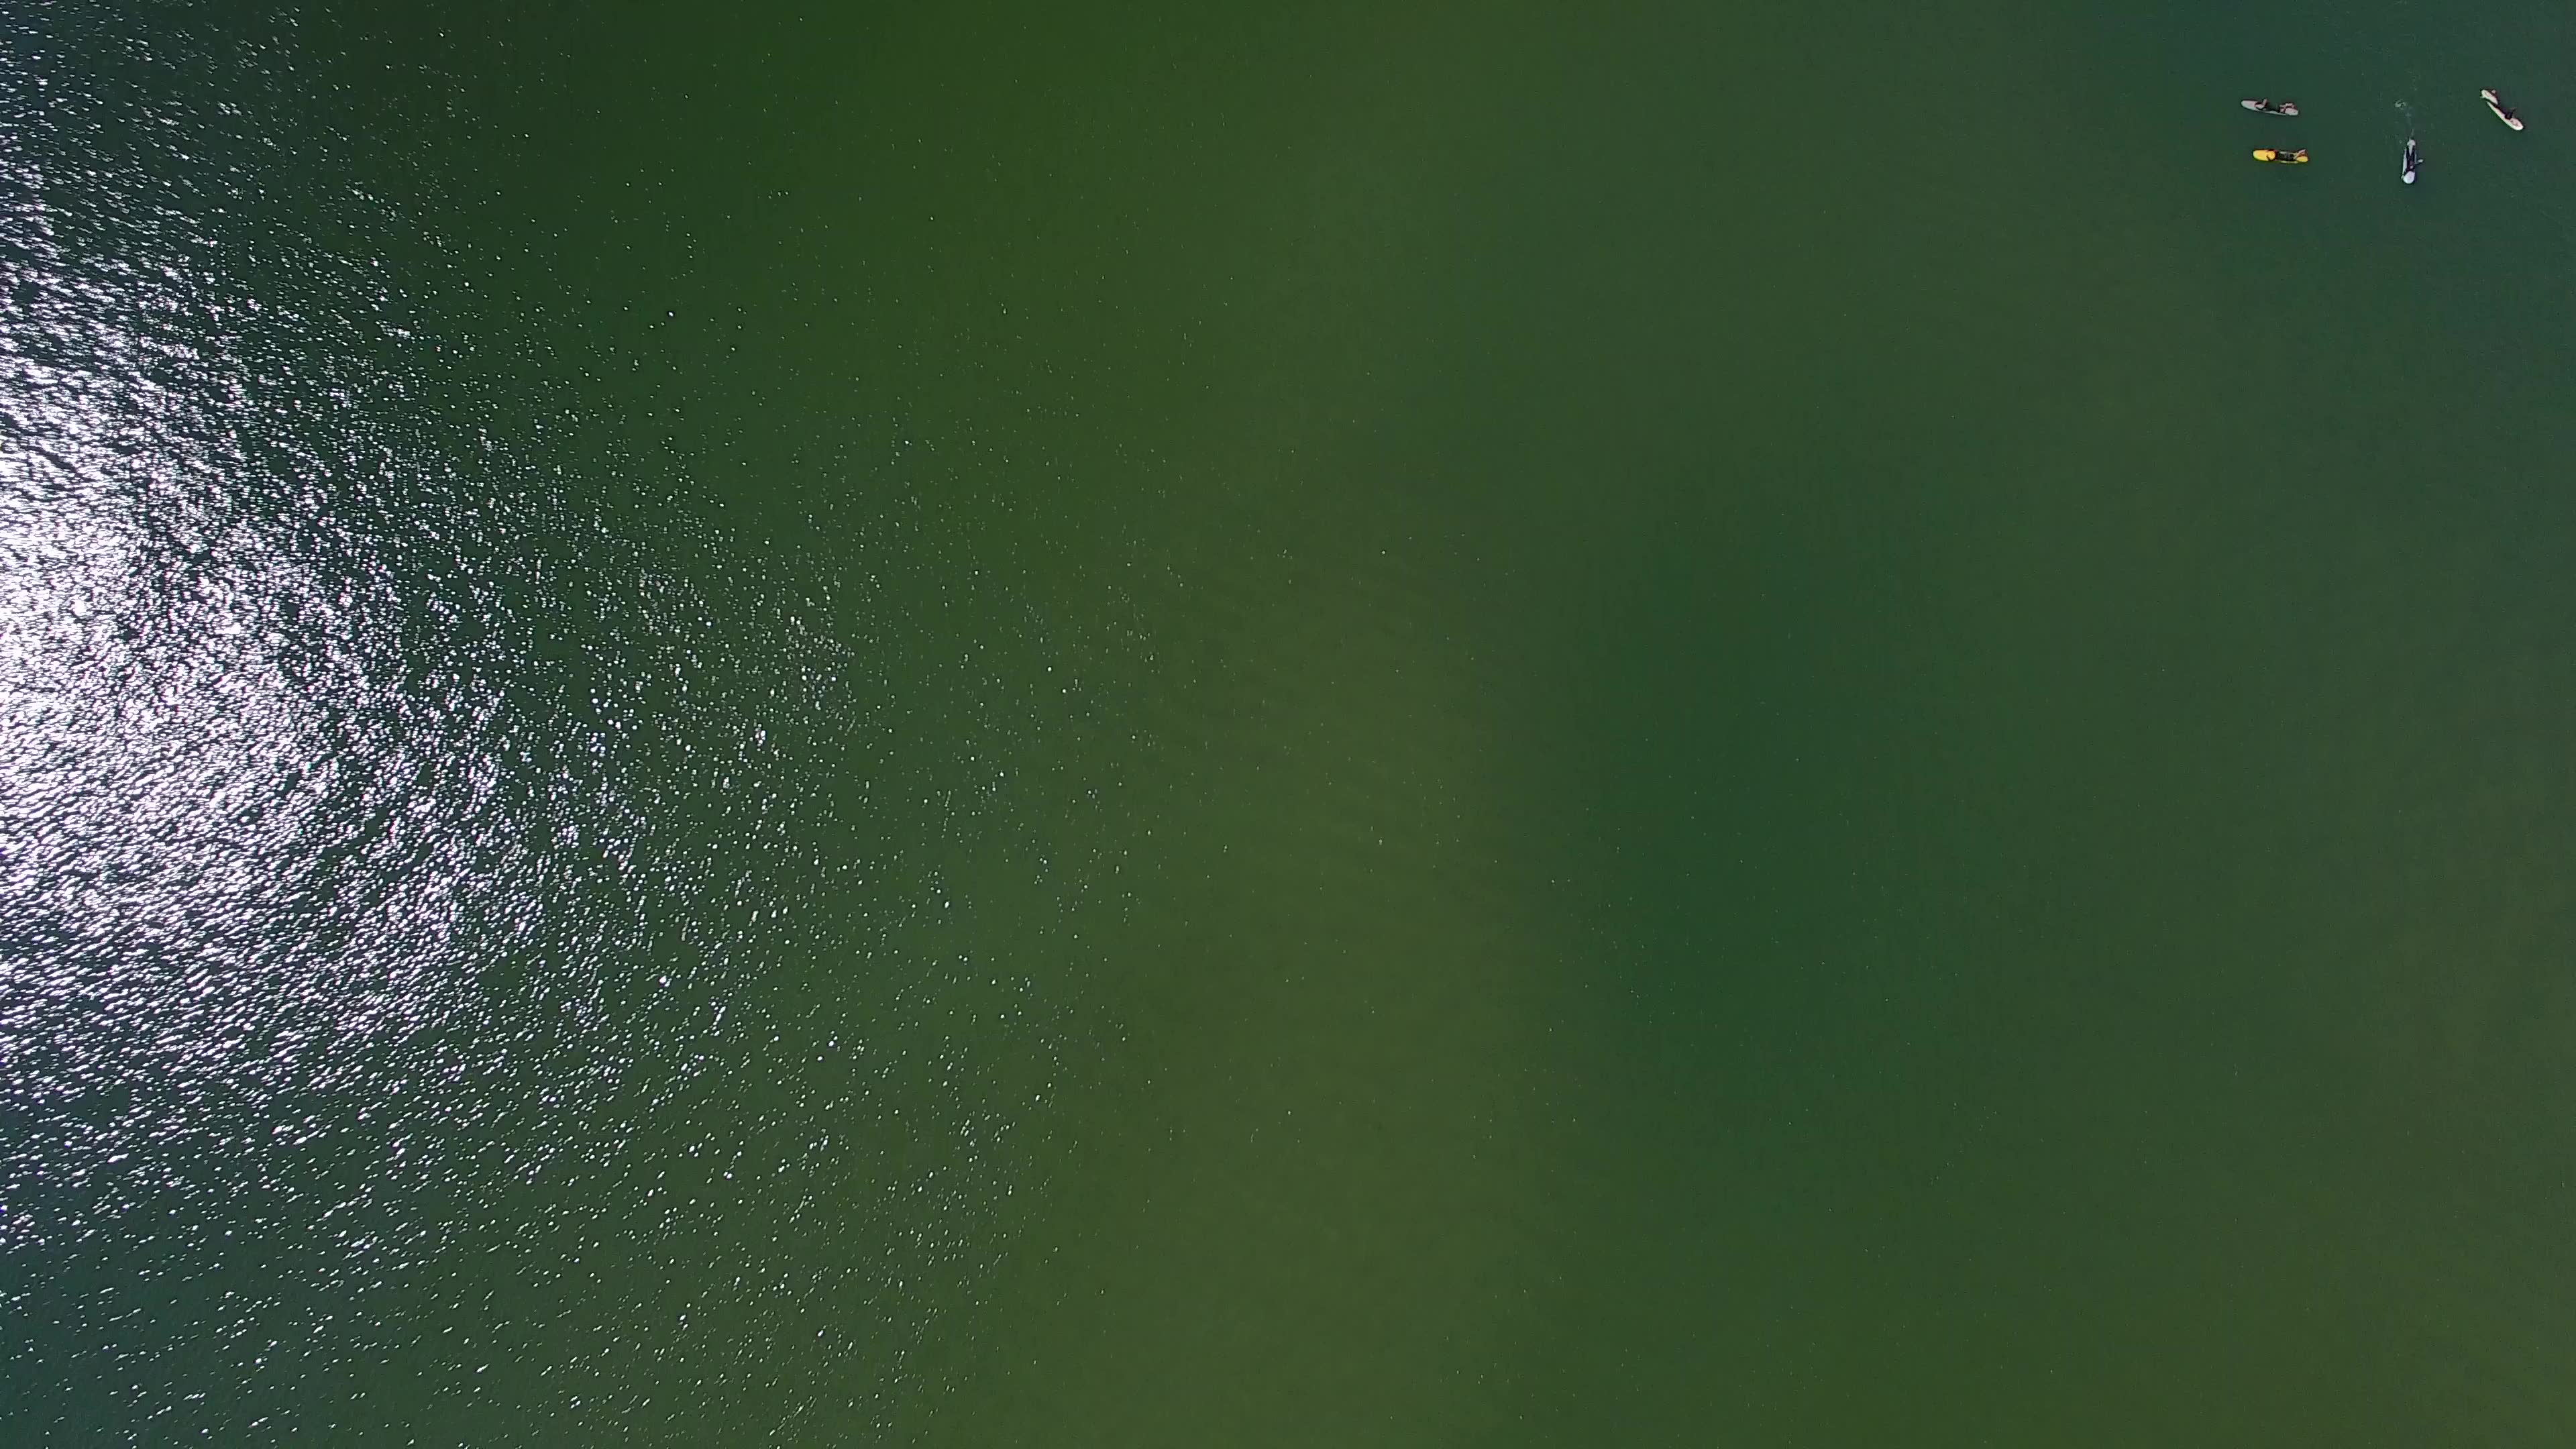surfer: (2475, 85, 2528, 140), (2236, 90, 2309, 124), (2392, 133, 2431, 189), (2249, 145, 2321, 173)
